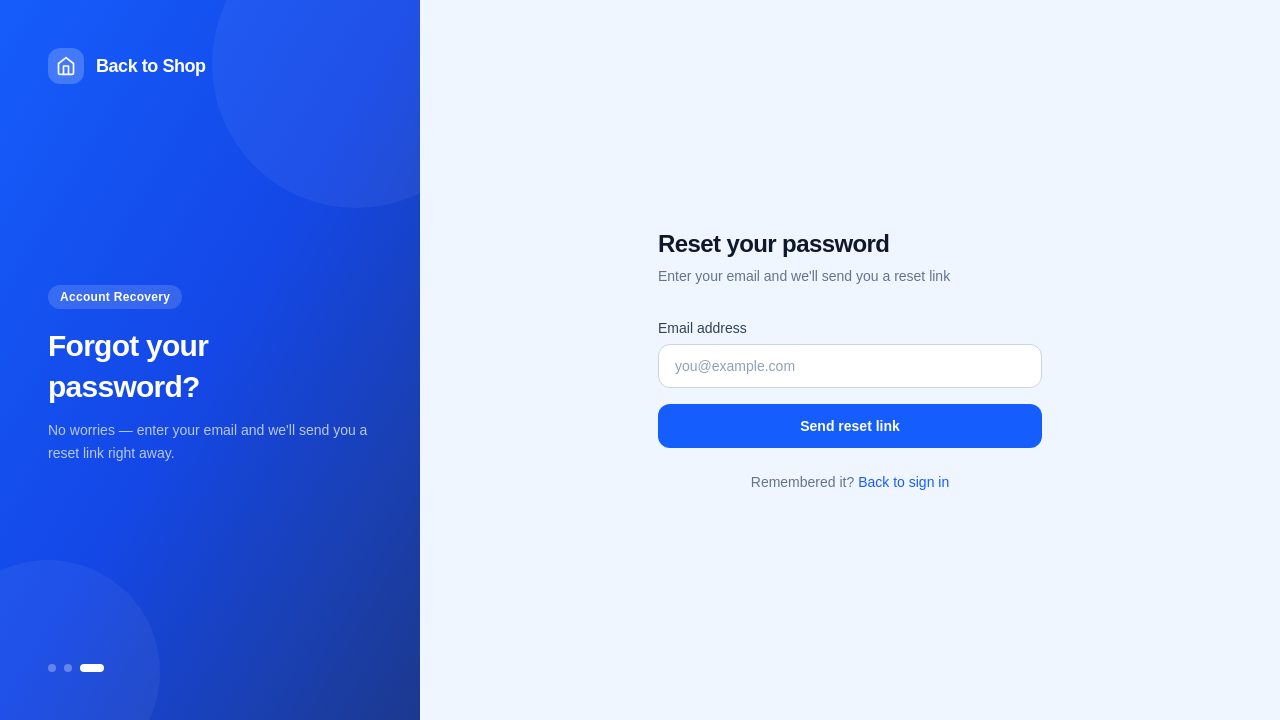
ForgotPasswordPage — successful reset request › shows success message after reset email is sent
Type "user@test.com" into the field with placeholder "you@example.com" at (850, 366), box [658,344,1042,388]
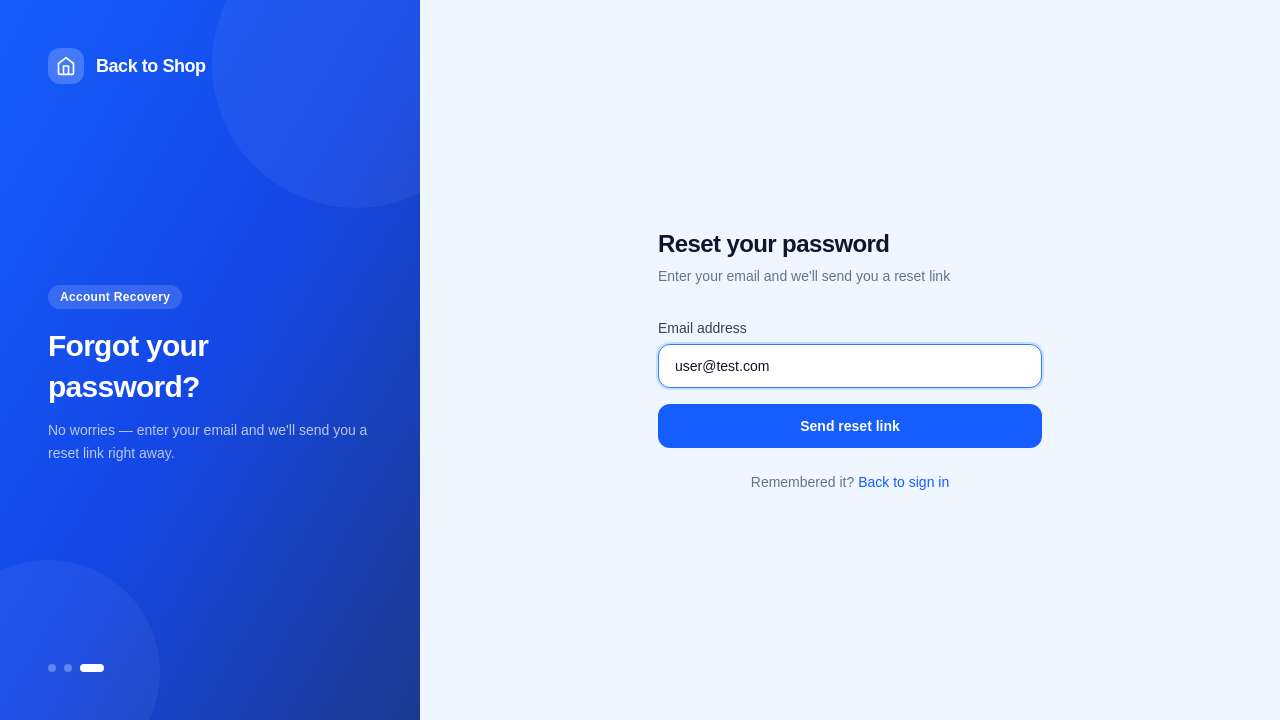
Click the button "Send reset link" at (850, 426), box [658,404,1042,448]
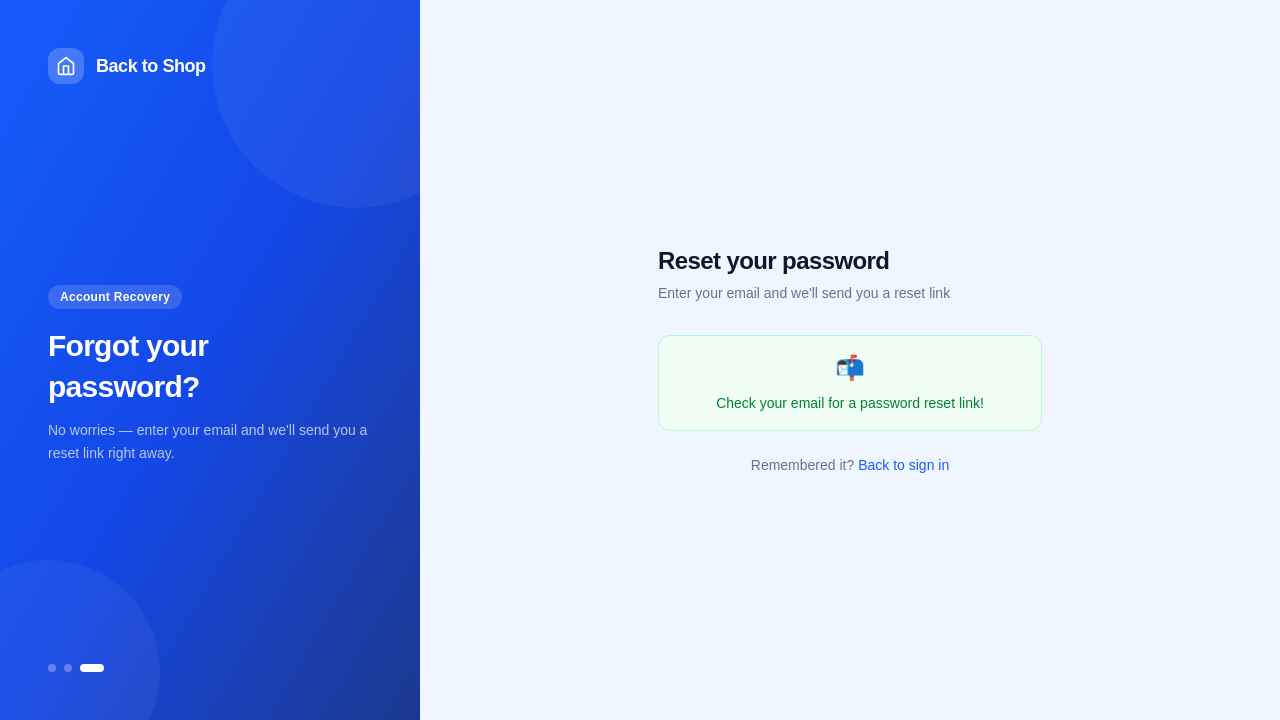
Result: the text "📬 Check your email for a password reset link!" is shown at [658,335,1042,431]
